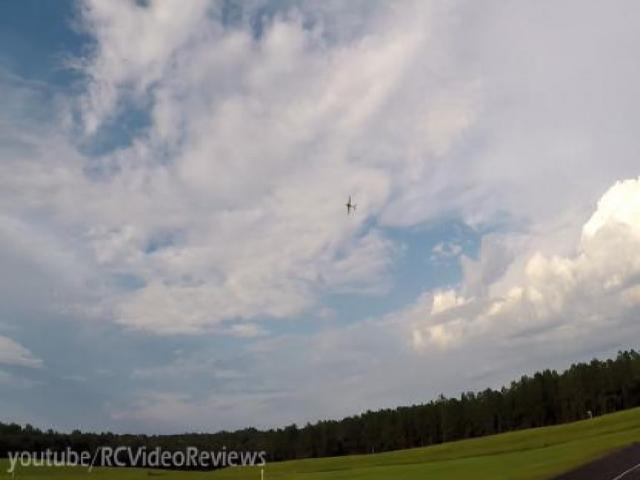uav: (338, 193, 362, 216)
